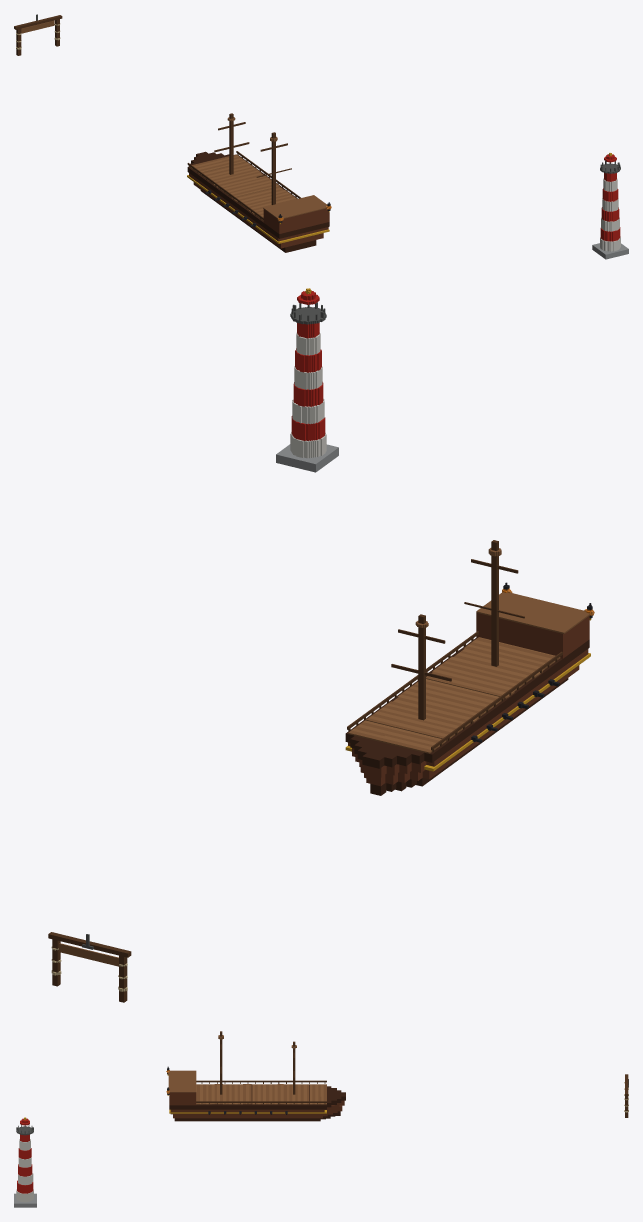
The model's file is PirateHero.glb.
3 renders of one model, top to bottom at view 1: azimuth 30°, elevation 25°; view 2: azimuth 150°, elevation 25°; view 3: azimuth 270°, elevation 25°, orthographic. The views are drawn at different scales.
Visible parts, largest first — view 1: PirateHero1; view 2: PirateHero1; view 3: PirateHero1.
Part boxes in pixels (x1,y1,x2,y2): PirateHero1: (14,14,628,259); PirateHero1: (48,288,594,1002); PirateHero1: (14,1031,628,1207).
Size of the model in its own units: 137 by 52 by 320.
